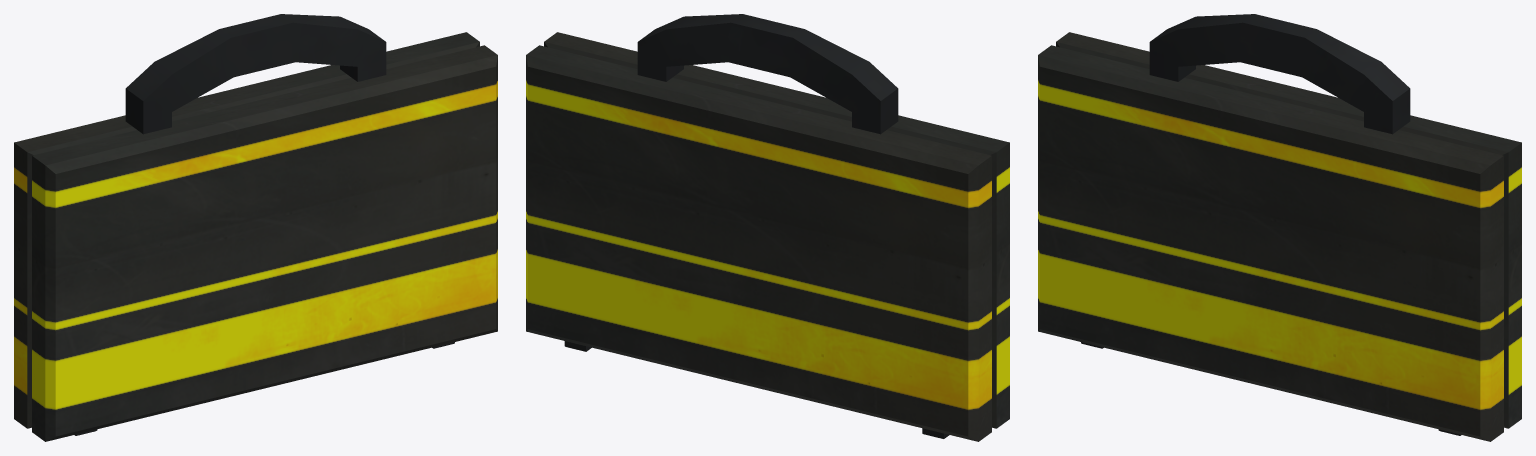
File: tool case.fbx
3 renders of one model, left to right at view 1: azimuth 30°, elevation 25°; view 2: azimuth 150°, elevation 25°; view 3: azimuth 330°, elevation 25°, orthographic.
Visible parts, largest first — view 1: tool_case; view 2: tool_case; view 3: tool_case.
Part boxes in pixels (x1,y1,x2,y2): tool_case: (14,14,497,441); tool_case: (526,14,1009,441); tool_case: (1038,14,1521,441).
Size of the model in its own units: 0.7086 by 0.5351 by 0.108.
